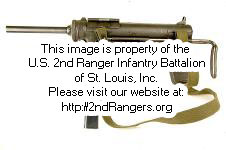rifle: (5, 18, 204, 48)
